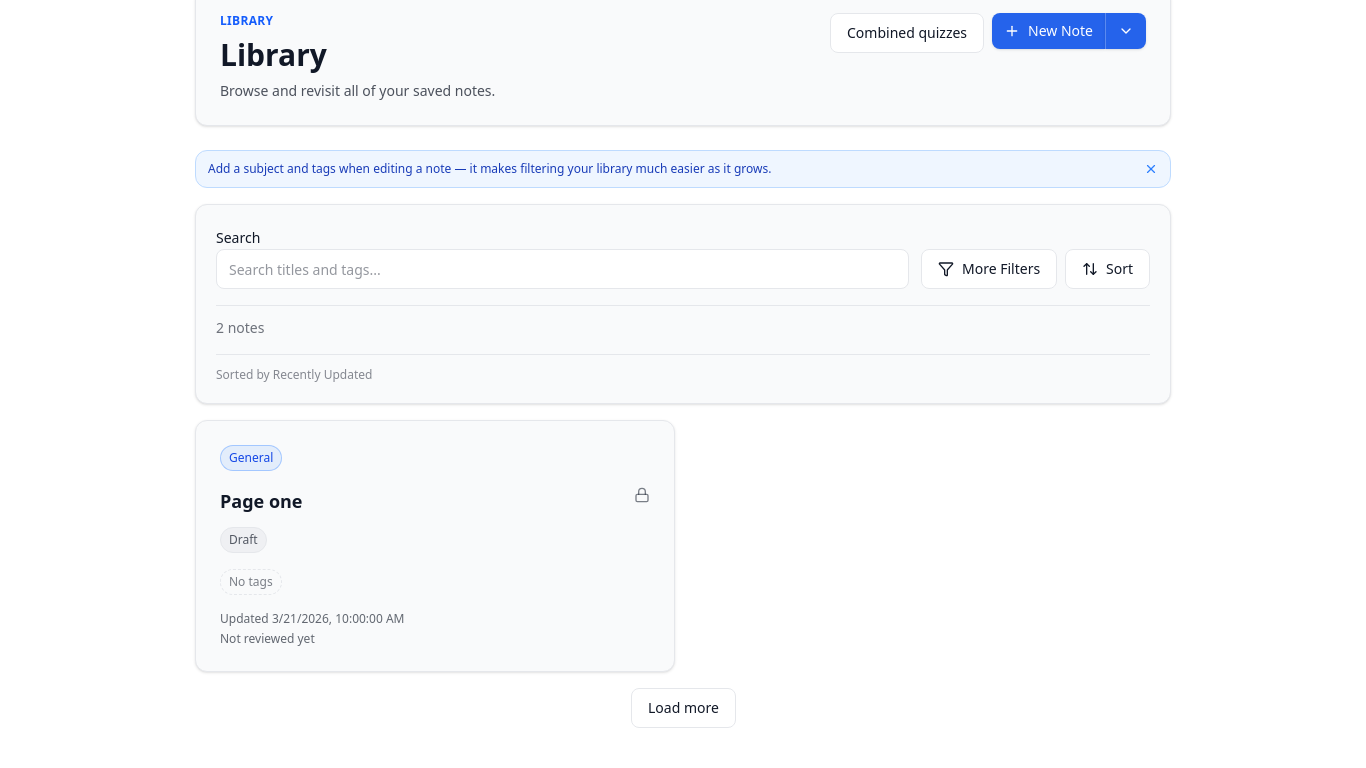
Test: Library page › appends the next server page and removes Load more at the end
(page scrolled)
Expected: the heading "Page one" is shown, [220,489,302,513]
Click the button "Load more" at (683, 708), box [631,688,736,728]
(page scrolled)
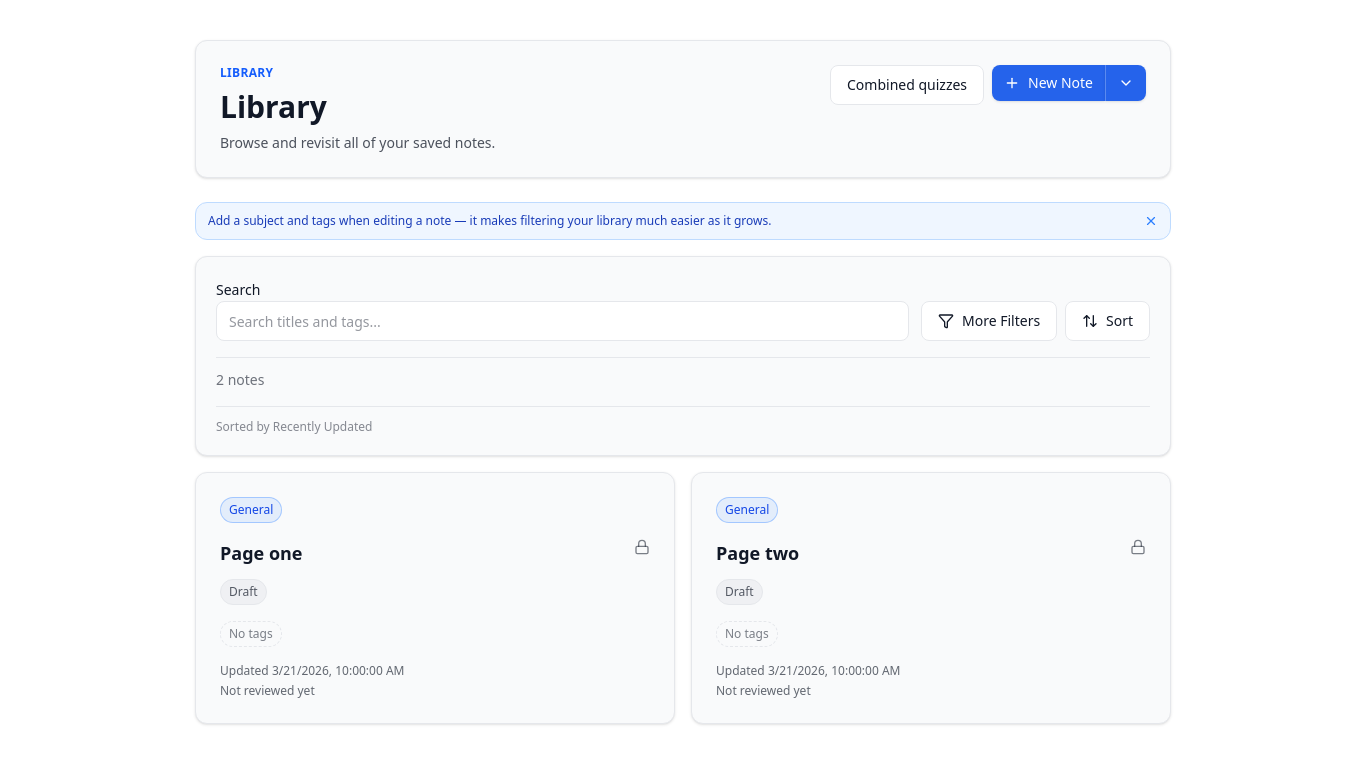
Expected: the heading "Page one" is shown, [220,541,302,565]
Now the heading "Page two" is shown, box [716,541,799,565]
Now the button "Load more" is gone
